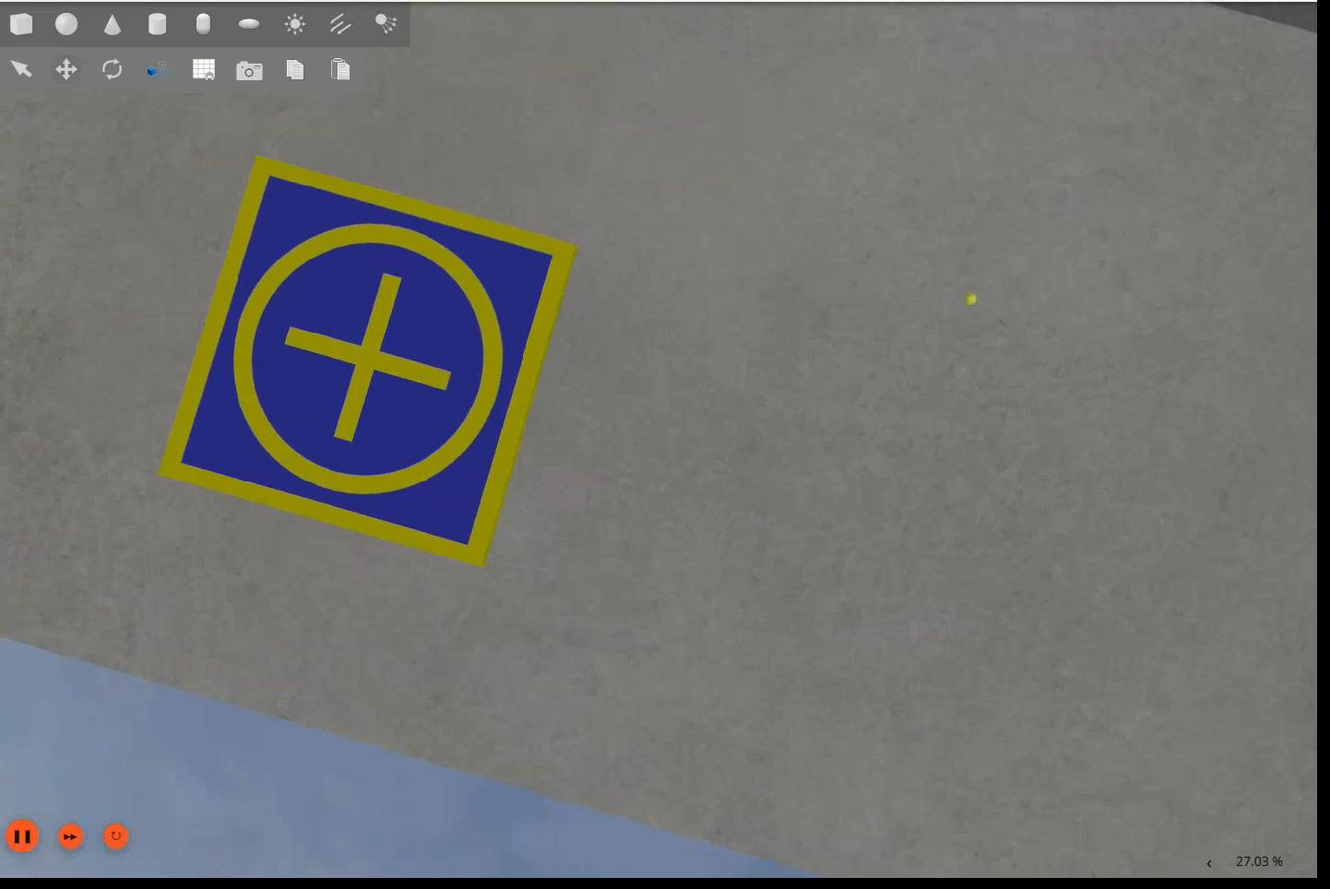small_base: (161, 156, 580, 567)
